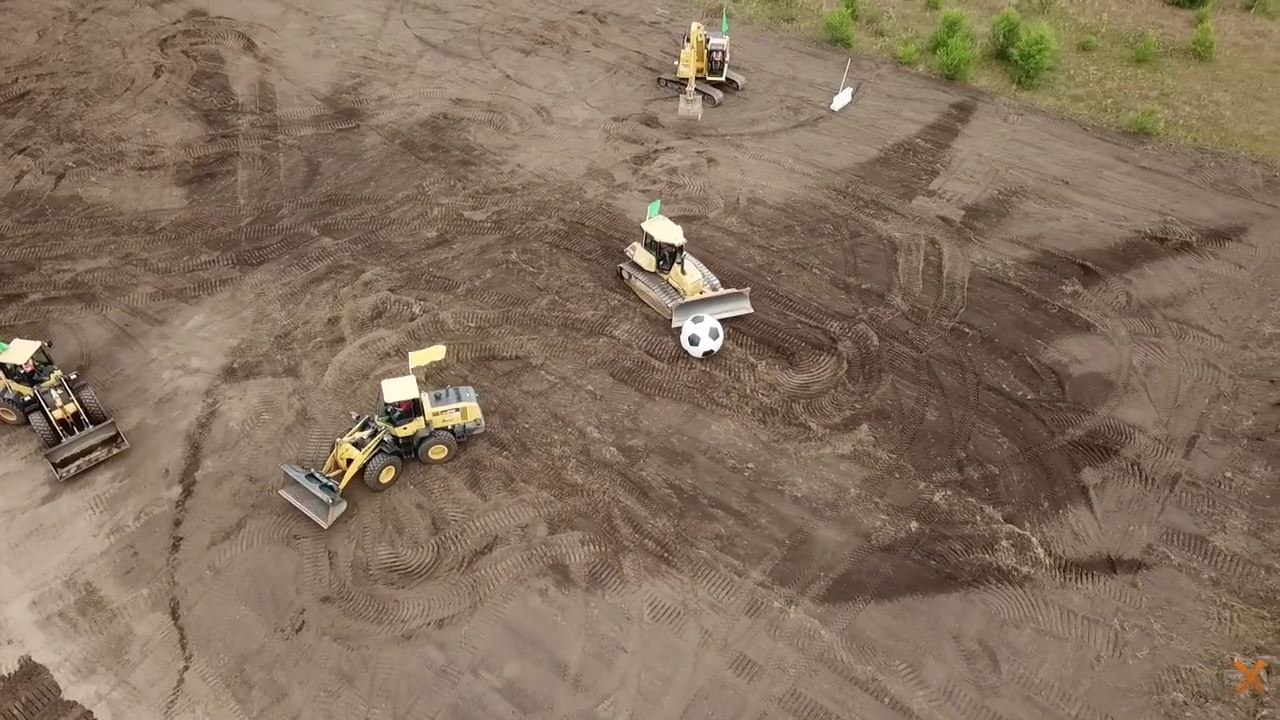con_eq: (275, 374, 492, 530), (4, 330, 132, 484), (613, 207, 759, 325), (652, 15, 750, 111)
